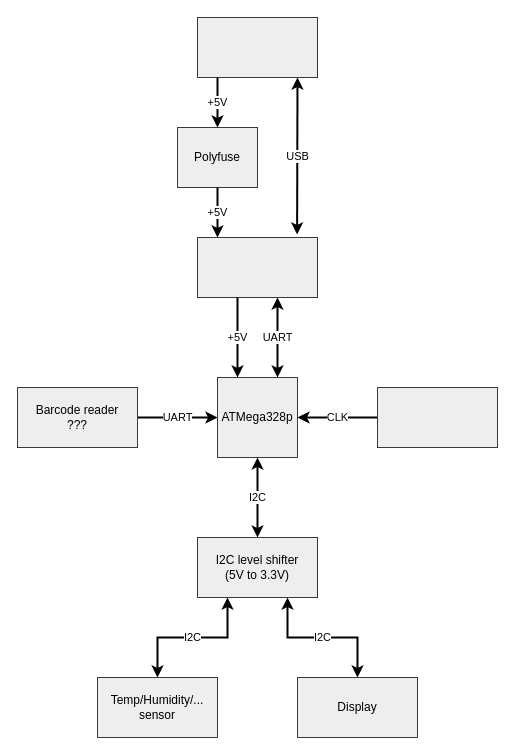
This 515x755 diagram has some shape labels left out. Here are the shapes that lost their labels. From the top down, the centre of each, then its label:
At (257,47): "USB-C connector (male)".
At (257,267): "USB to UART bridge".
At (437,417): "16MHz crystal".
